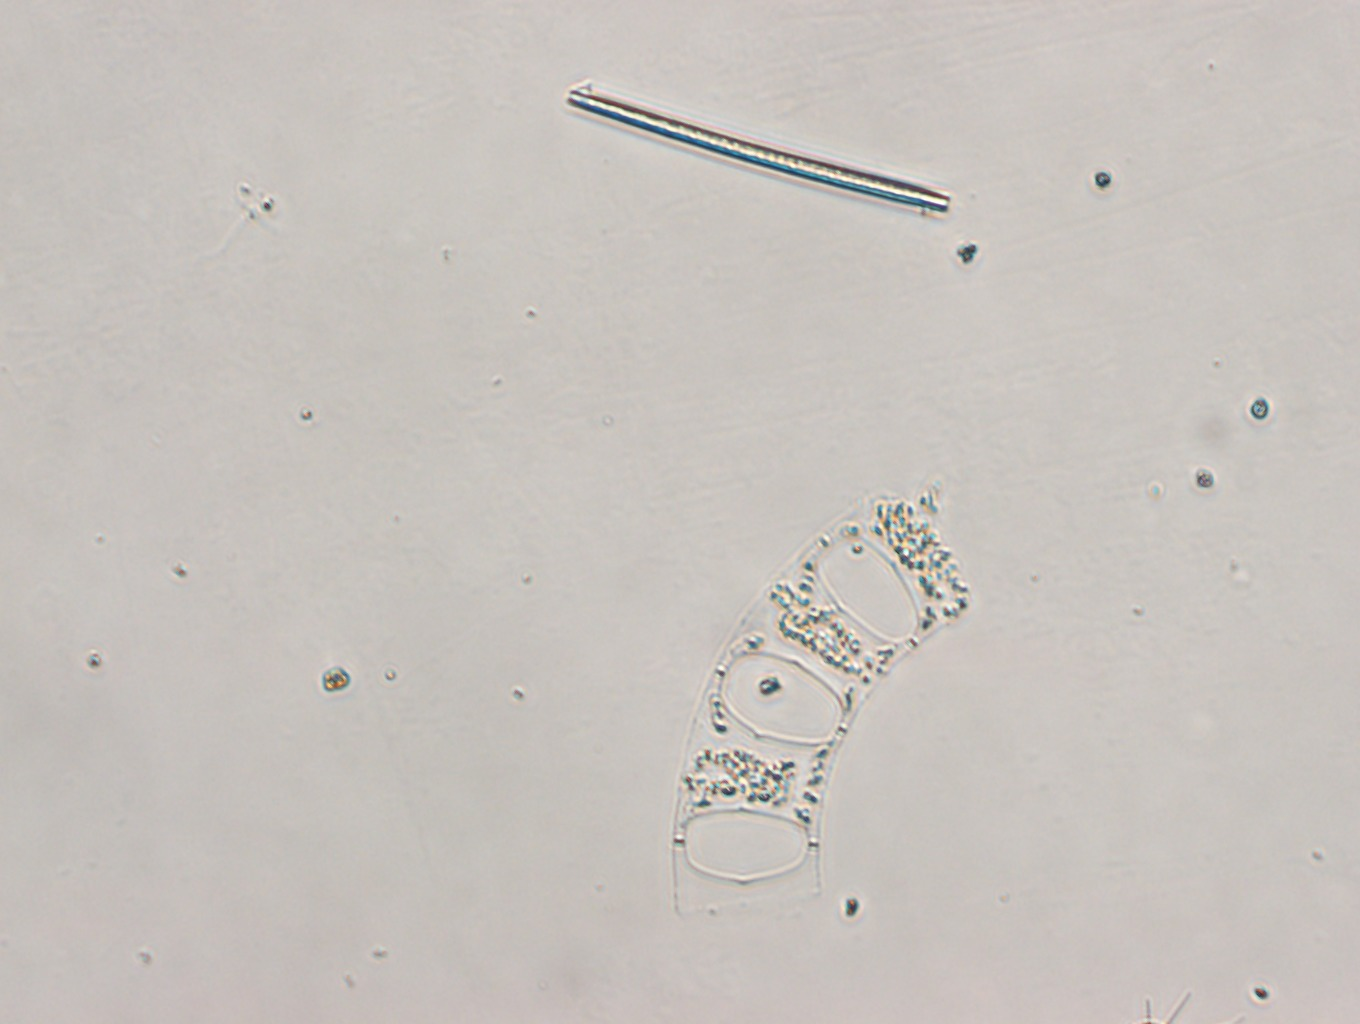eucampia: (674, 485, 972, 942)
thalassionema frauenfeldii: (566, 84, 954, 216)
